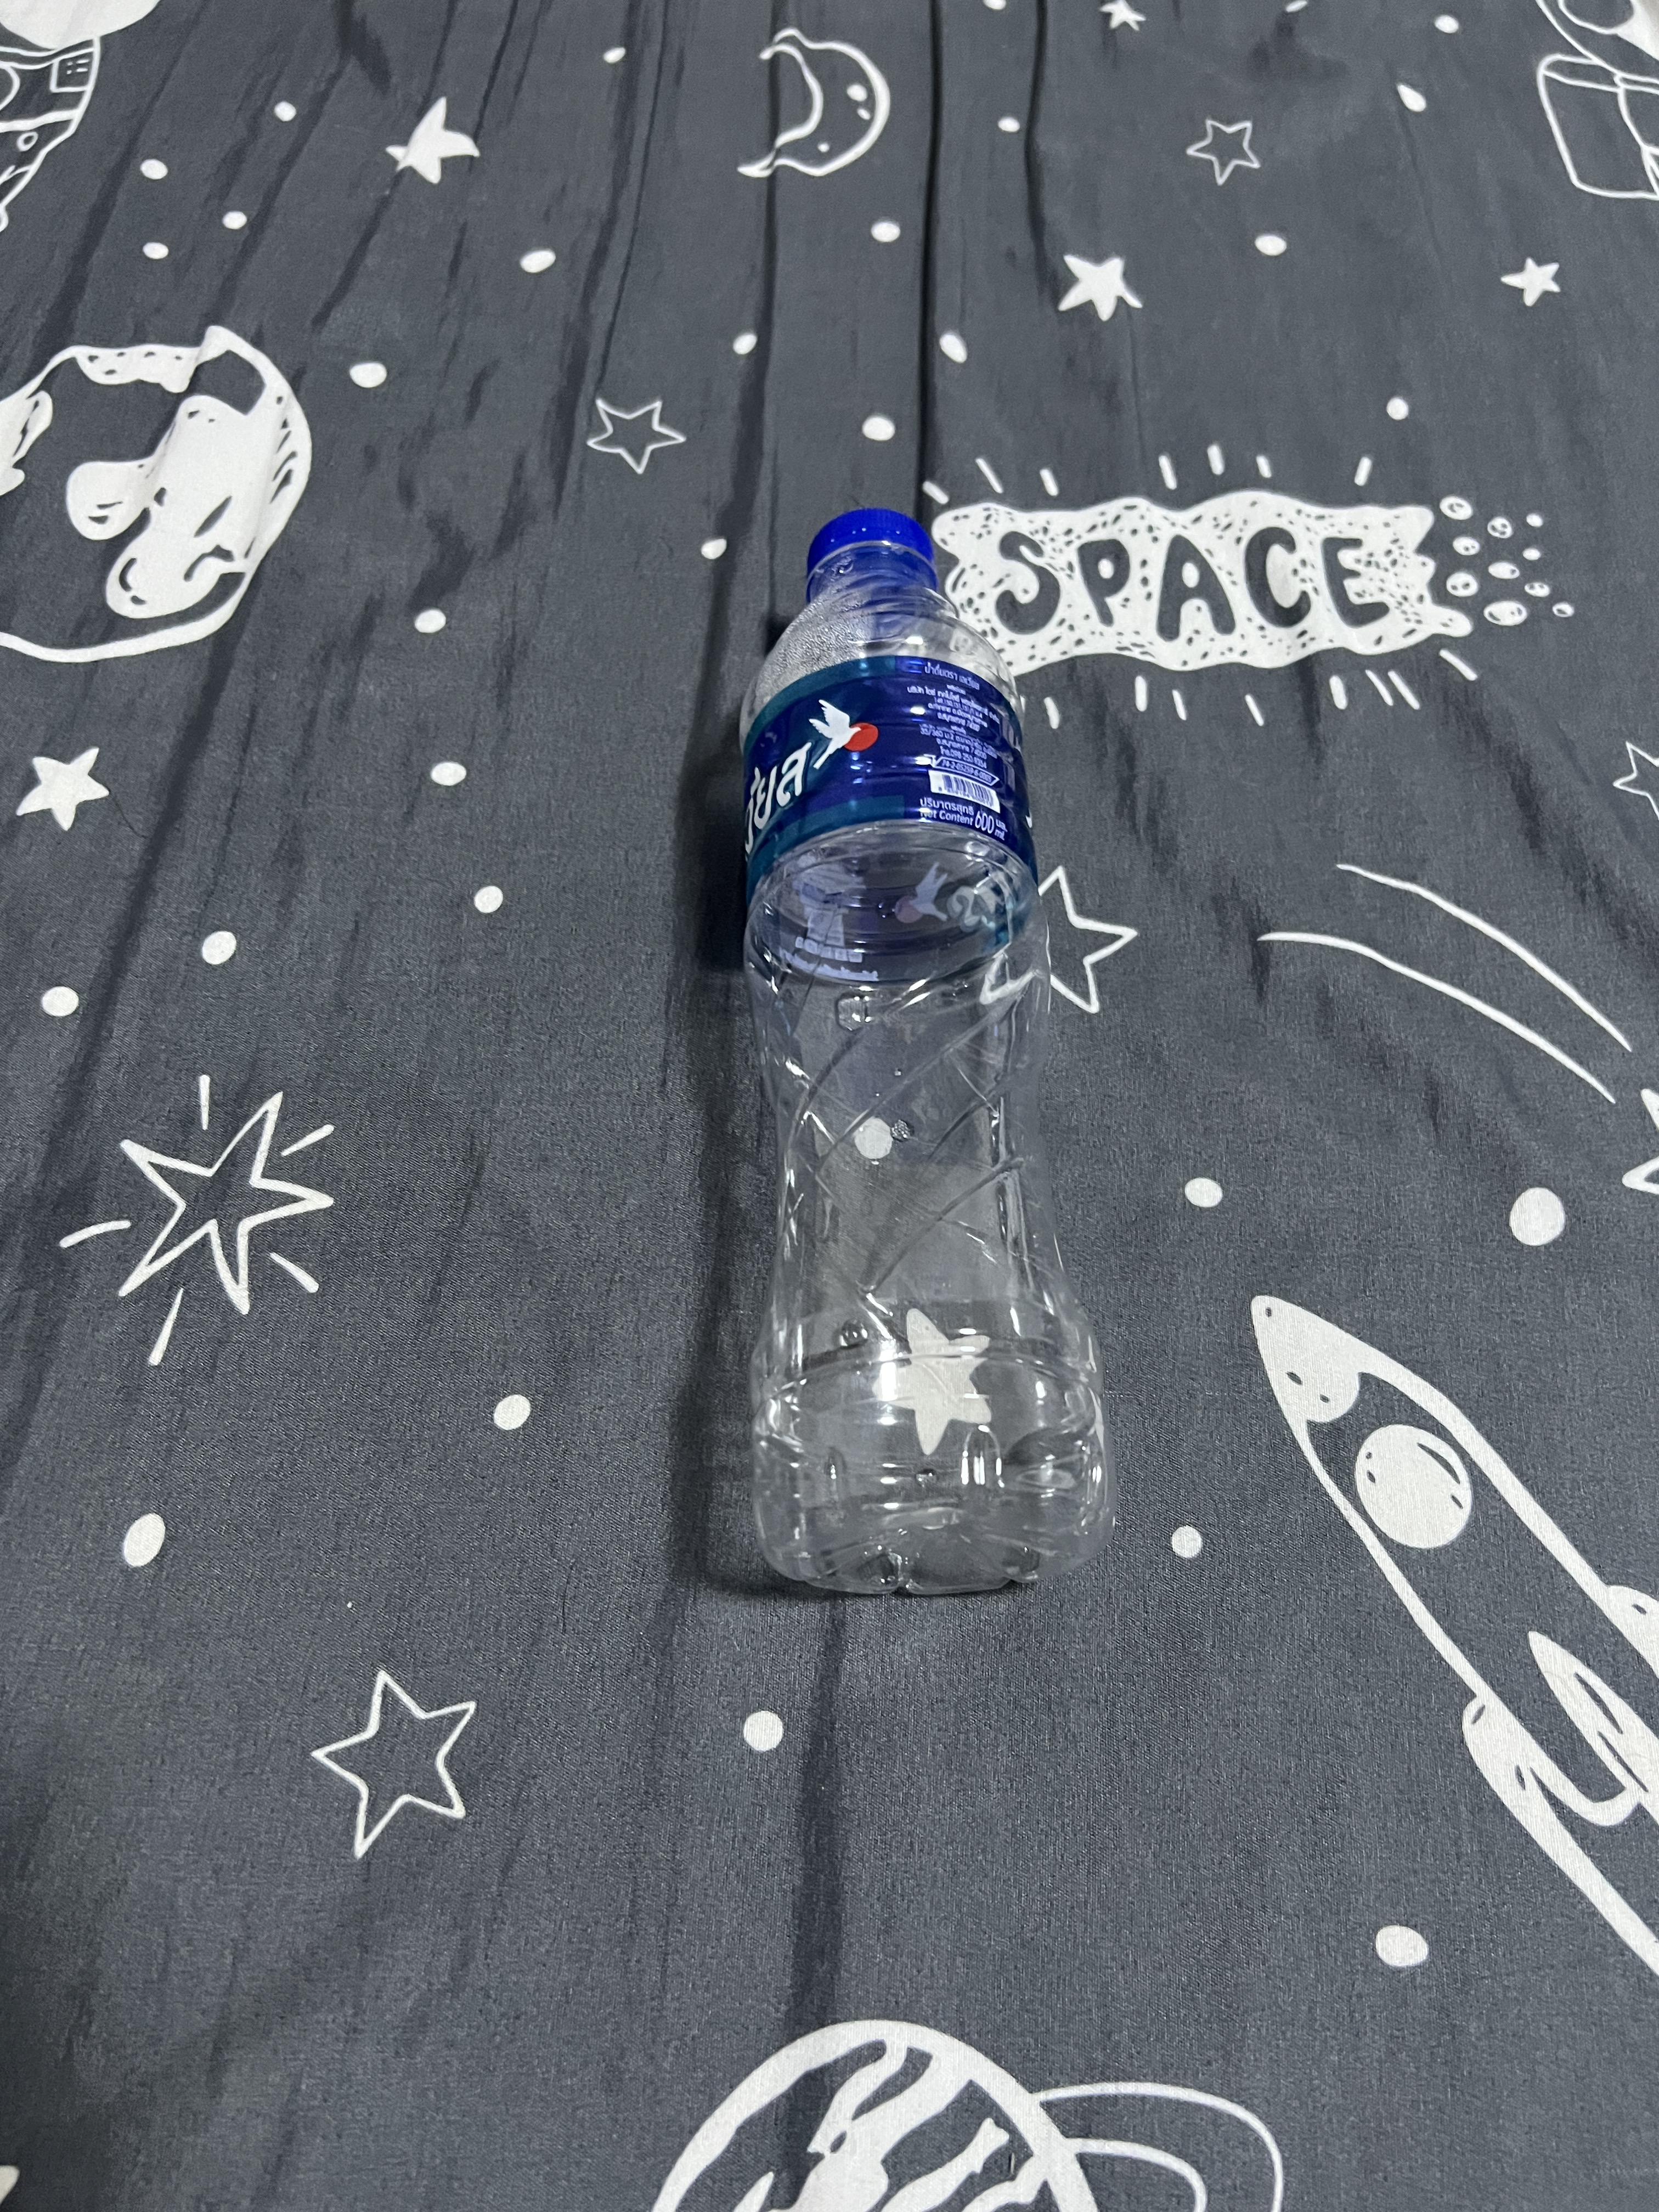plastic_bottle: (687, 470, 1143, 1637)
